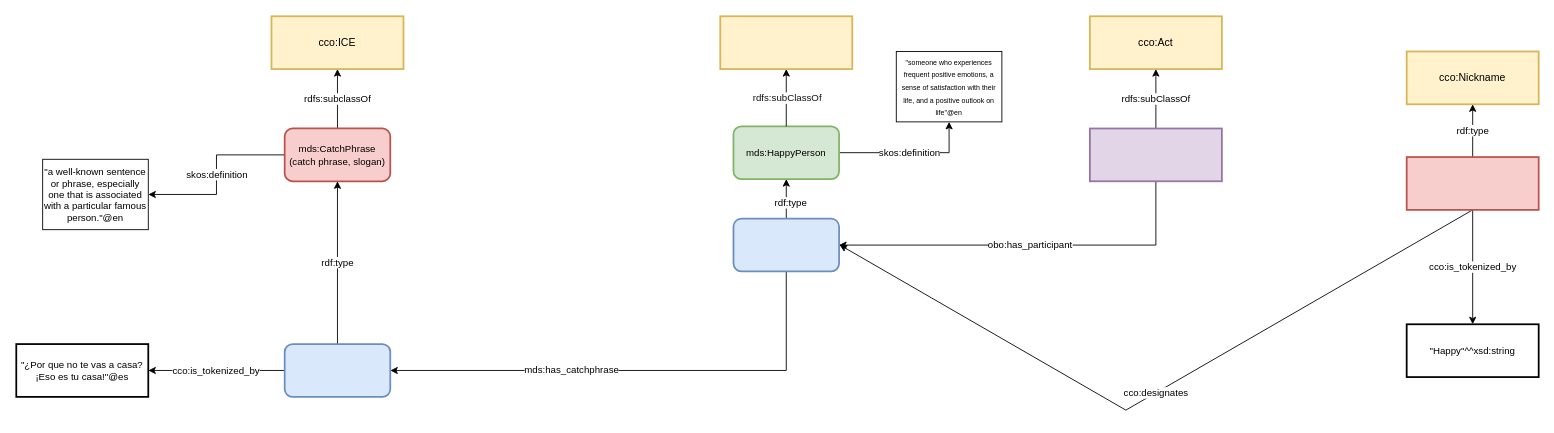
The diagram is 1554 pixels wide and 433 high, and some of its shapes have lost their labels. The shapes that lost their labels are listed below. From the top down, each one's centre as x and y in pixels, then its label:
At pixel 786 42: "cco:Person".
At pixel 1155 154: "mds:Act of Playing Golf*".
At pixel 1472 183: "Nickname of Happy Gilmore".
At pixel 786 244: "Happy Gilmore".
At pixel 337 370: "Catch Phrase of Happy Gilmore".
